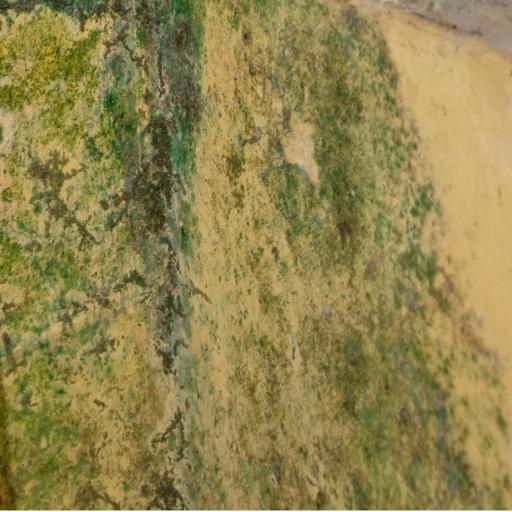algae: (2, 0, 485, 512)
